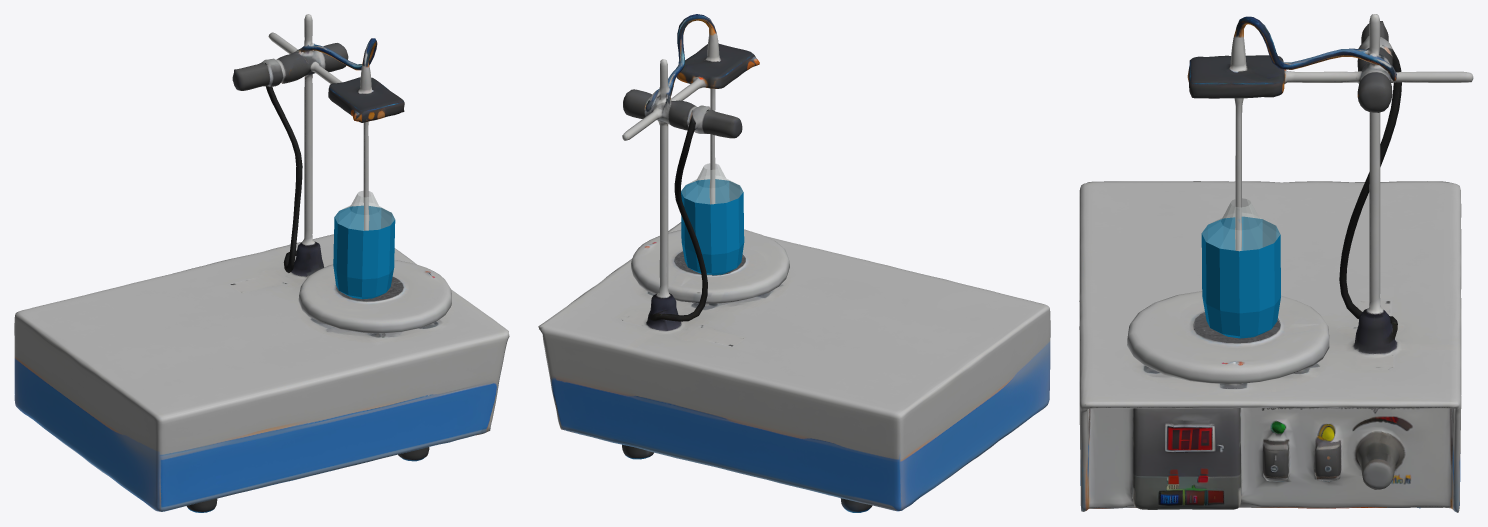
File: Magnetic stirrer.fbx
3 views of the same model, side by side, from view 1: azimuth 30°, elevation 25°; view 2: azimuth 150°, elevation 25°; view 3: azimuth 270°, elevation 25° (orthographic). The views are drawn at different scales.
Visible parts, largest first — view 1: tripo_node_6cd5d7ec, model:Mesh; view 2: tripo_node_6cd5d7ec, model:Mesh; view 3: tripo_node_6cd5d7ec, model:Mesh.
Boxes of the visible parts, <box> form: tripo_node_6cd5d7ec: <box>14,14,509,512</box>; model:Mesh: <box>333,191,395,299</box>; tripo_node_6cd5d7ec: <box>538,14,1050,512</box>; model:Mesh: <box>681,163,744,275</box>; tripo_node_6cd5d7ec: <box>1079,14,1473,512</box>; model:Mesh: <box>1201,198,1280,338</box>.
Bounding box in the file's own units: 98.77 × 99.92 × 72.68.
